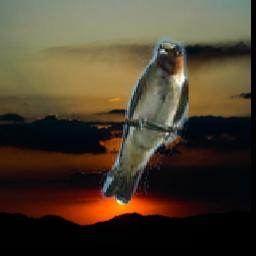Swallow: (99, 37, 189, 205)
